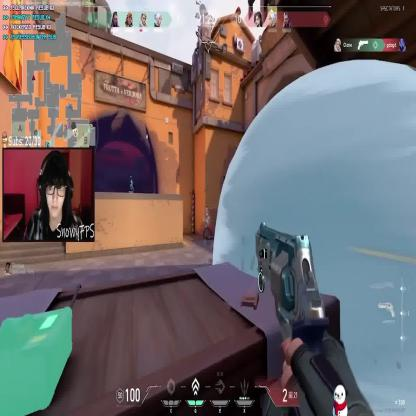enemy: (203, 210, 214, 241)
enemy_head: (204, 210, 209, 216)
